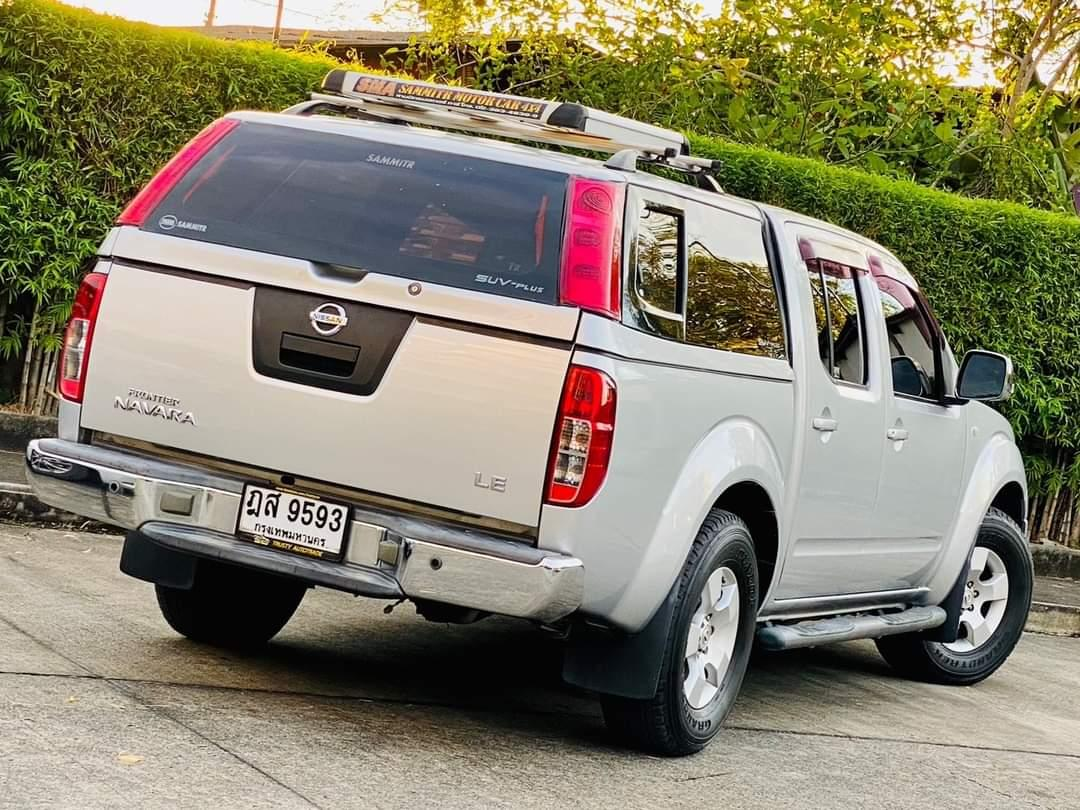license-plate: (229, 476, 358, 572)
